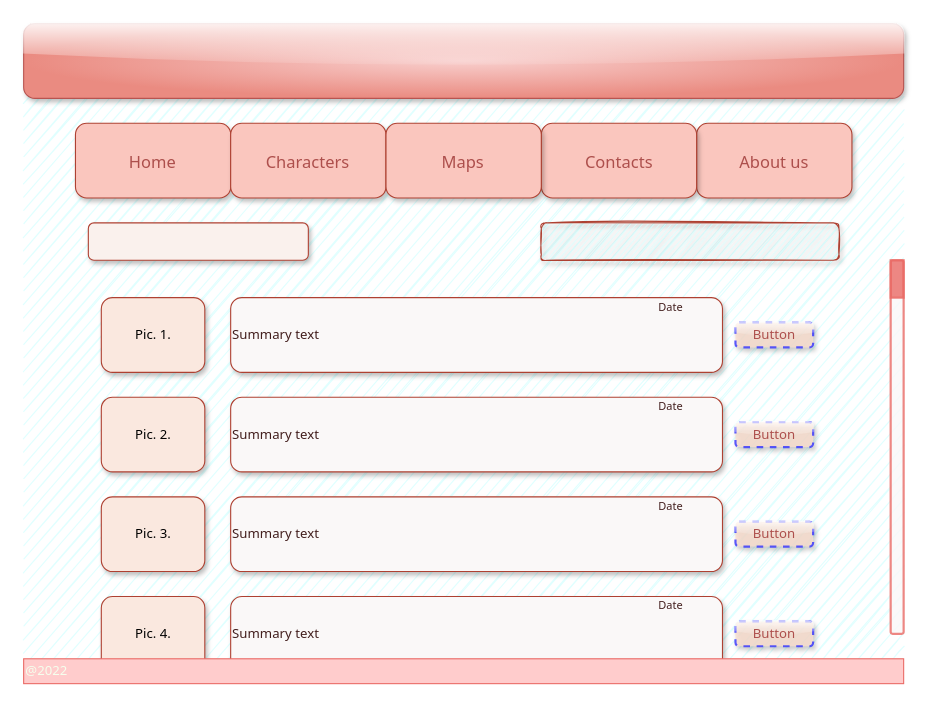
This 930x712 diagram has some shape labels left out. The centre of each missing label's shape, as x and y in pixels:
Last news: the point at 199,242
ROSE MANSION: the point at 464,62
Search...: the point at 691,242
